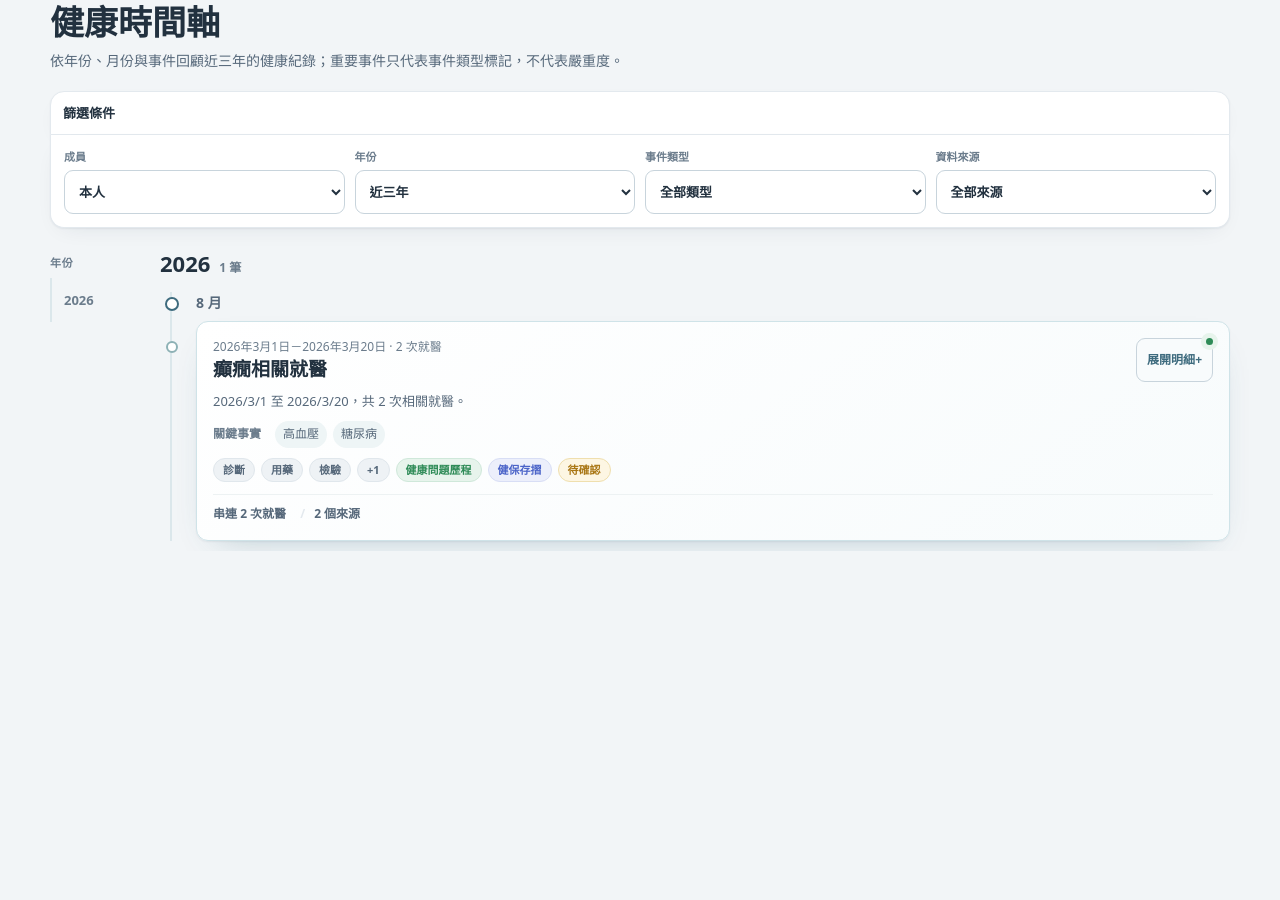
Scenario: HealthTimelinePage member and mobile year behavior › renders a cross-day health episode with complete visits and one-click profile actions
Check: the heading "癲癇相關就醫" is shown, box top-left (213, 356), bottom-right (327, 382)
Check: the text "健康問題歷程" is shown, box top-left (396, 458), bottom-right (482, 482)
Step 1. Click the button with aria-label "展開 癲癇相關就醫的明細" → (1175, 360), box top-left (1136, 338), bottom-right (1213, 382)
(page scrolled)
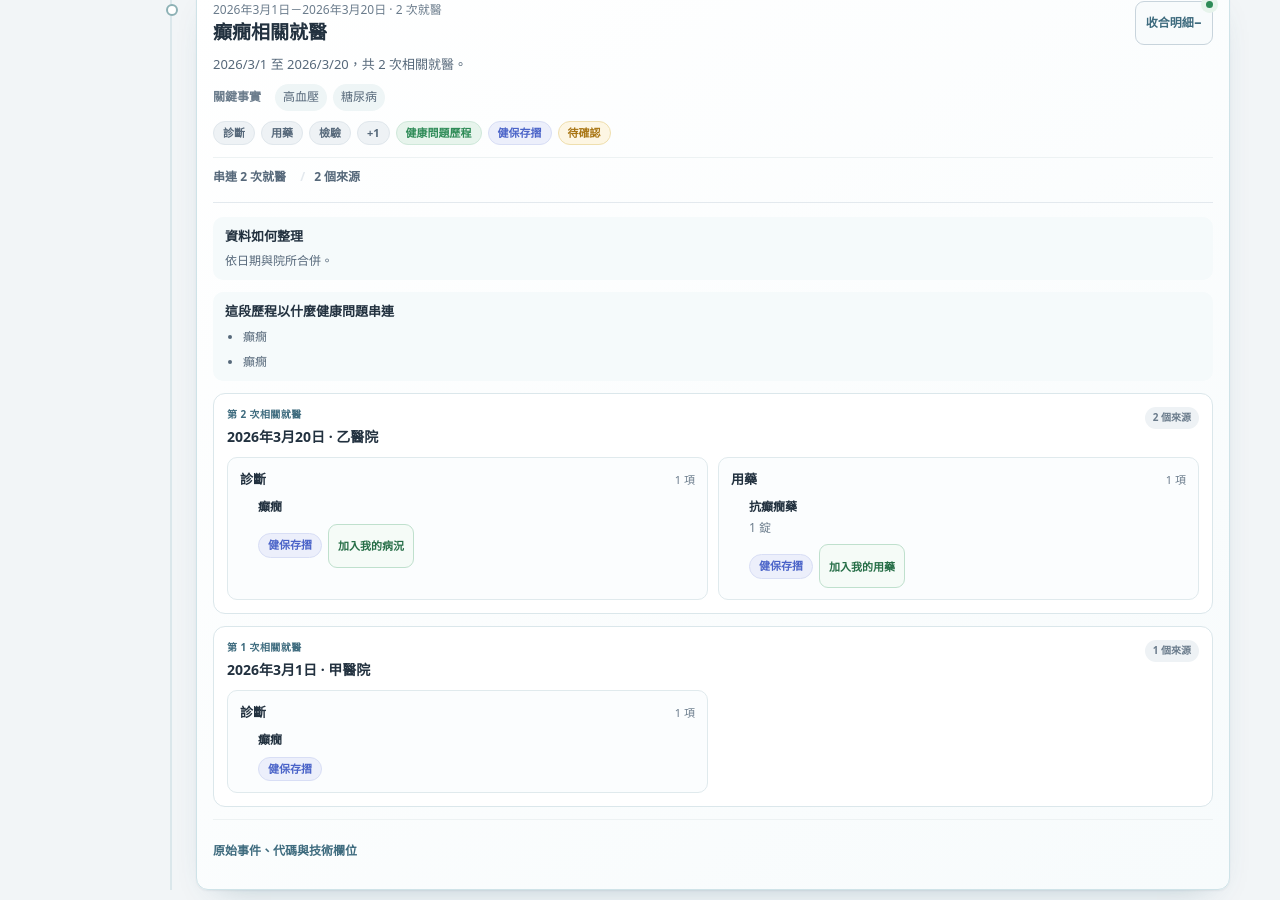
Check: the heading "2026年3月20日 · 乙醫院" is shown, box top-left (227, 426), bottom-right (378, 447)
Check: the heading "2026年3月1日 · 甲醫院" is shown, box top-left (227, 659), bottom-right (370, 680)
Step 2. Click the button "加入我的病況" → (371, 546), box top-left (328, 524), bottom-right (414, 568)
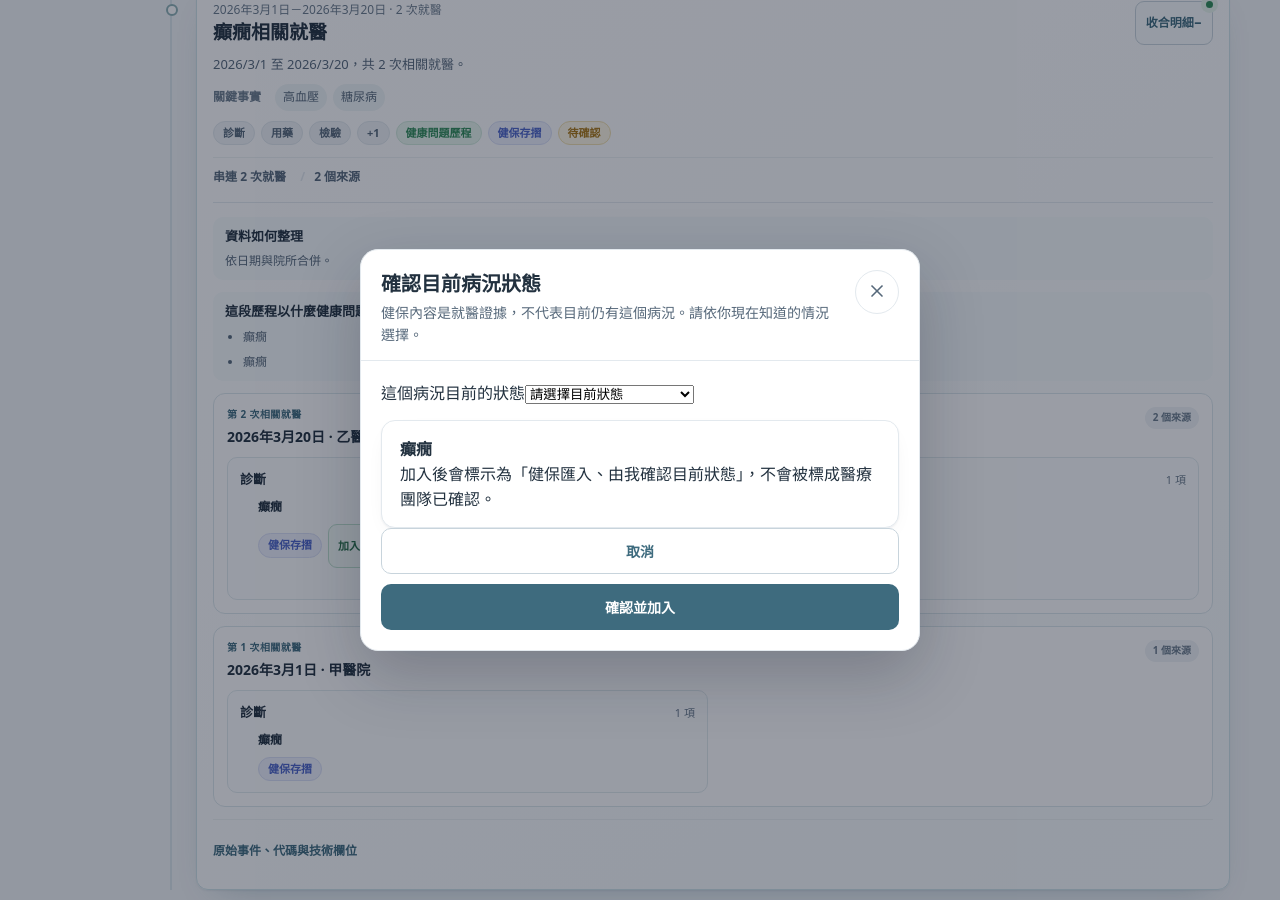
Check: the dropdown labelled "這個病況目前的狀態" shows "請選擇目前狀態"
Check: the button "確認並加入" is disabled, box top-left (381, 584), bottom-right (899, 630)
Step 3. Select "持續觀察中" in the dropdown labelled "這個病況目前的狀態" → (610, 395), box top-left (525, 385), bottom-right (694, 404)
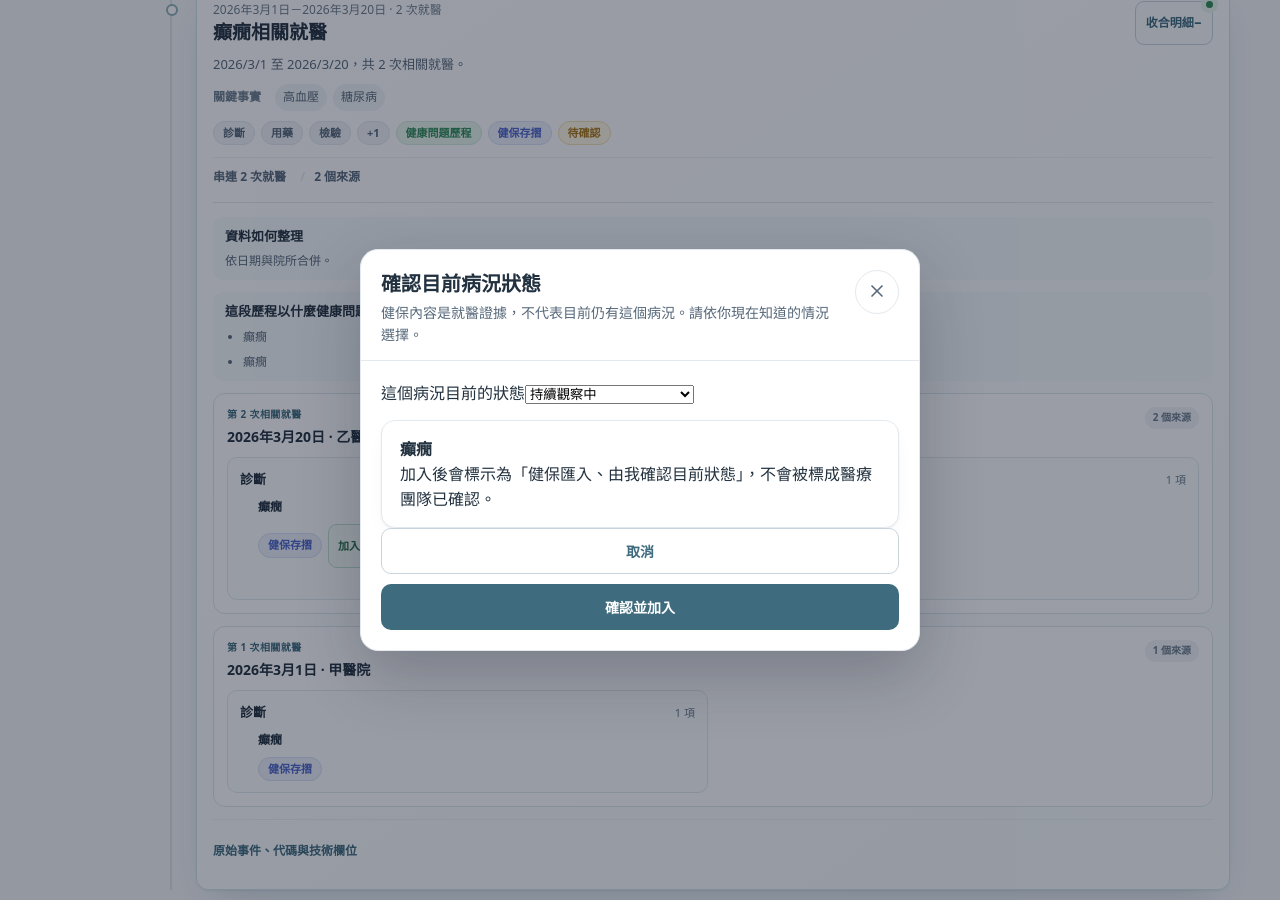
Step 4. Click the button "確認並加入" → (640, 608), box top-left (381, 584), bottom-right (899, 630)
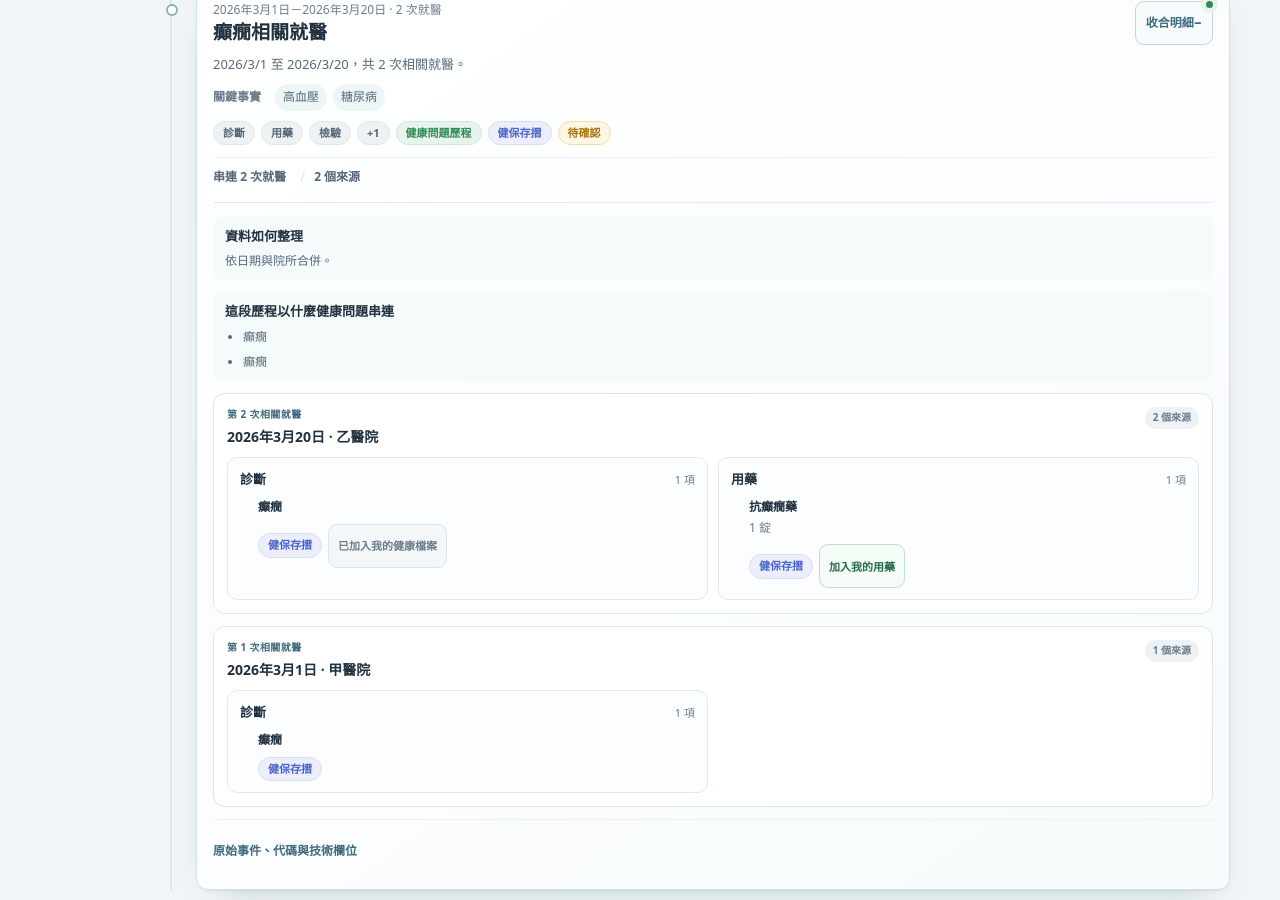
Check: the button named "加入我的病況" reads "已加入我的健康檔案", box top-left (328, 524), bottom-right (447, 568)
